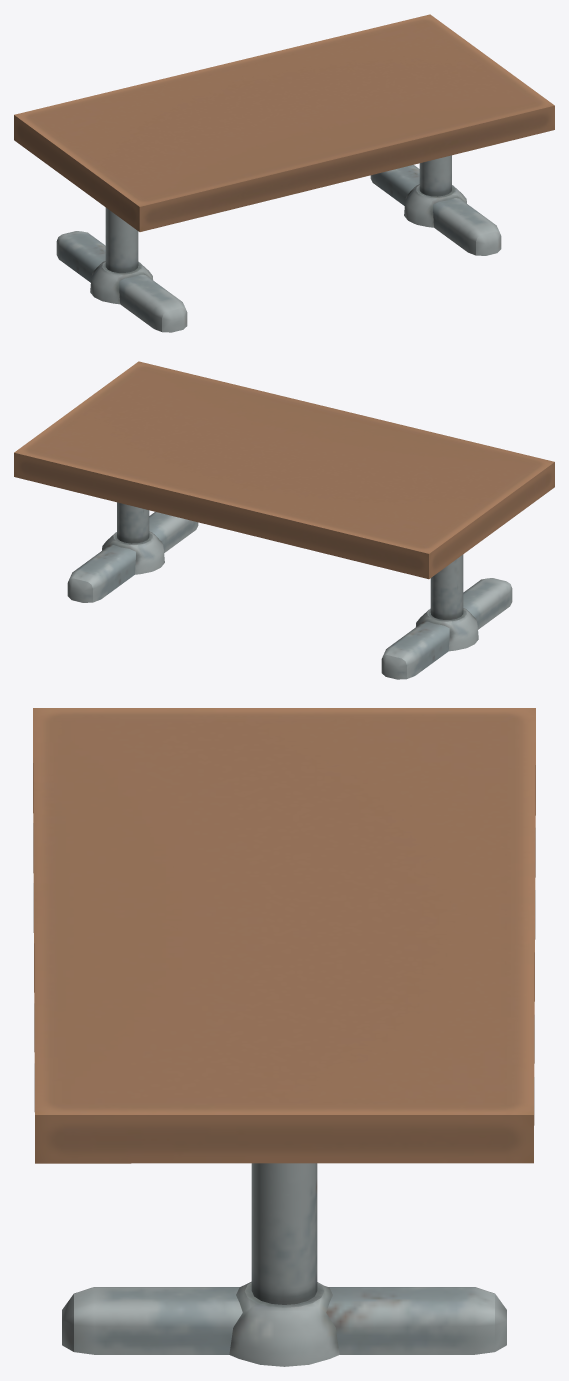
The model's file is Pfb_Canteen_01_03_Table1.fbx.
3 views of the same model, one above another, from view 1: azimuth 30°, elevation 25°; view 2: azimuth 150°, elevation 25°; view 3: azimuth 270°, elevation 25° (orthographic). The views are drawn at different scales.
Parts seen in each view (by area): view 1: Mat_Canteen_01_03, Mat_Canteen_01_01_Red; view 2: Mat_Canteen_01_03, Mat_Canteen_01_01_Red; view 3: Mat_Canteen_01_03, Mat_Canteen_01_01_Red.
Boxes of the visible parts, x1=… form: Mat_Canteen_01_03: x1=14, y1=14, x2=554, y2=231; Mat_Canteen_01_01_Red: x1=56, y1=155, x2=501, y2=332; Mat_Canteen_01_03: x1=14, y1=361, x2=554, y2=579; Mat_Canteen_01_01_Red: x1=67, y1=502, x2=512, y2=679; Mat_Canteen_01_03: x1=33, y1=708, x2=535, y2=1163; Mat_Canteen_01_01_Red: x1=62, y1=1163, x2=506, y2=1366.
Size of the model in its own units: 1.87 by 0.6045 by 0.9804.
Materials: 2 (2 with a texture image).
